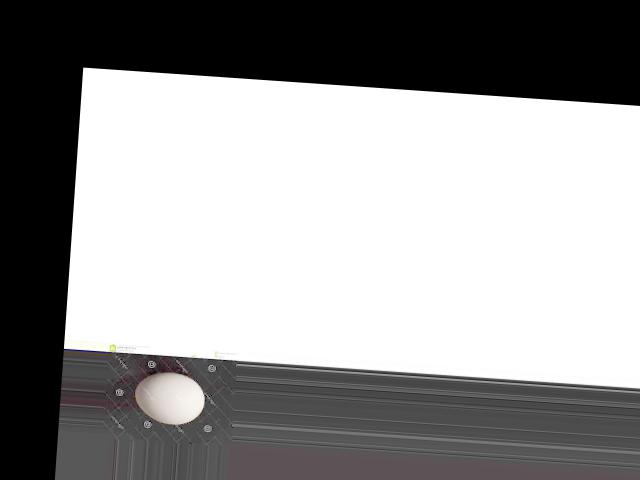egg: (133, 370, 207, 426)
